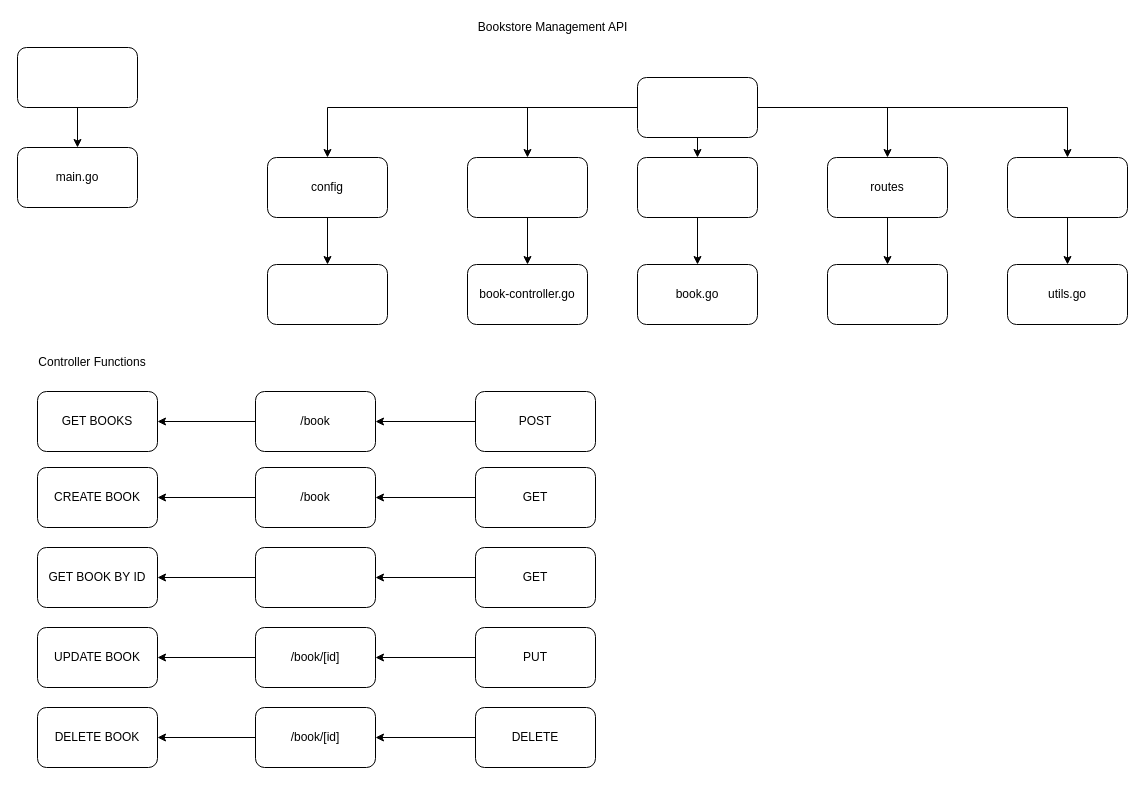
This 1145x785 diagram has some shape labels left out. The shapes that lost their labels are listed below. From the top down, each one's centre as x and y in pixels, then its label:
At pixel 77 77: "CMD".
At pixel 697 107: "PKG".
At pixel 527 187: "controllers".
At pixel 697 187: "models".
At pixel 1067 187: "utils".
At pixel 327 294: "app.go".
At pixel 887 294: "bookstore-routes".
At pixel 315 577: "/boo/[id]".
